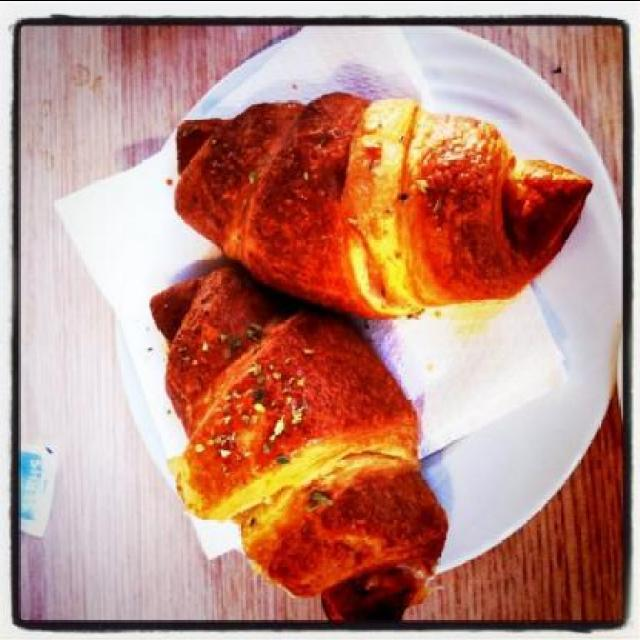Croissant: (150, 266, 447, 618), (177, 93, 574, 329)
